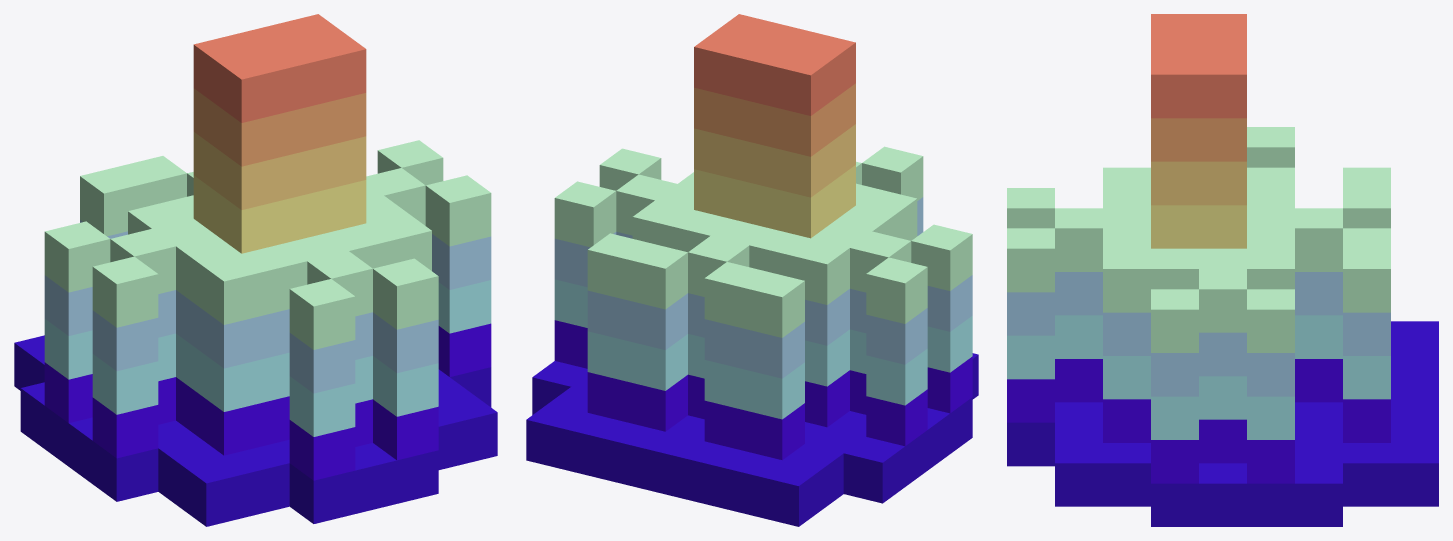
The model's file is dataviz.glb.
3 views of the same model, side by side, from view 1: azimuth 30°, elevation 25°; view 2: azimuth 150°, elevation 25°; view 3: azimuth 270°, elevation 25° (orthographic). The views are drawn at different scales.
Parts seen in each view (by area): view 1: Cube.056, Cube.004, Cube.071, Cube.219, Cube.029, Cube.138, Cube.012, Cube.010, Cube.050, Cube, Cube.001, Cube.003 (+72 smaller); view 2: Cube.011, Cube.010, Cube.050, Cube.173, Cube.023, Cube.080, Cube.225, Cube.004, Cube.044, Cube.047, Cube.007, Cube.008 (+74 smaller); view 3: Cube.138, Cube.153, Cube.162, Cube.180, Cube.201, Cube.098, Cube.131, Cube.203, Cube.204, Cube.210, Cube.213, Cube.214 (+68 smaller).
Boxes of the visible parts, x1,y1,x2,y2 form: Cube.056: (289,279,355,349); Cube.004: (92,256,158,327); Cube.071: (217,52,283,122); Cube.219: (425,175,491,246); Cube.029: (200,254,265,324); Cube.138: (373,258,438,329); Cube.012: (182,456,247,526); Cube.010: (44,221,110,292); Cube.050: (80,166,145,236); Cube: (92,441,158,501); Cube.001: (92,397,158,458); Cube.003: (92,310,158,371); Cube.011: (843,437,905,503); Cube.010: (866,257,927,323); Cube.050: (743,271,804,337); Cube.173: (626,243,687,309); Cube.023: (760,460,821,526); Cube.080: (772,49,833,115); Cube.225: (554,181,616,247); Cube.004: (911,224,972,290); Cube.044: (788,238,849,304); Cube.047: (743,403,804,460); Cube.007: (866,389,927,446); Cube.008: (866,349,927,405); Cube.138: (1007,228,1054,292); Cube.153: (1151,54,1198,118); Cube.162: (1199,54,1246,118); Cube.180: (1103,248,1150,312); Cube.201: (1343,248,1390,312); Cube.098: (1055,208,1102,271); Cube.131: (1295,208,1342,271); Cube.203: (1055,443,1102,506); Cube.204: (1103,443,1150,506); Cube.210: (1199,269,1246,332); Cube.213: (1343,443,1390,506); Cube.214: (1391,443,1438,506).
Bounding box in the file's own units: 18 × 18 × 18.
